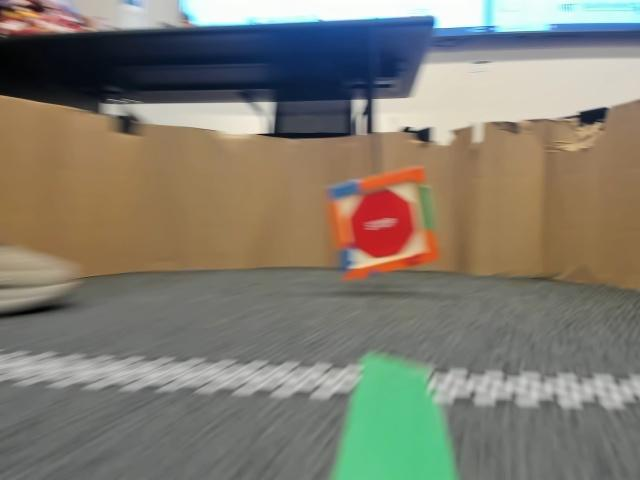Stop: (347, 197, 408, 261)
